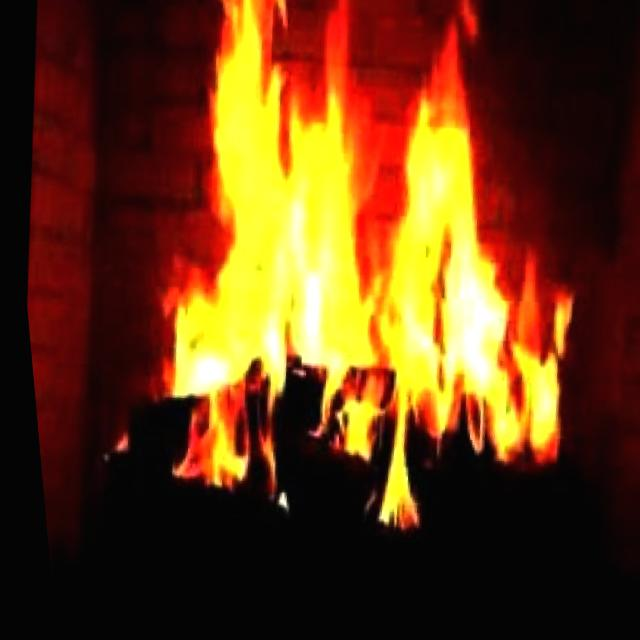Fire: (39, 0, 630, 583)
